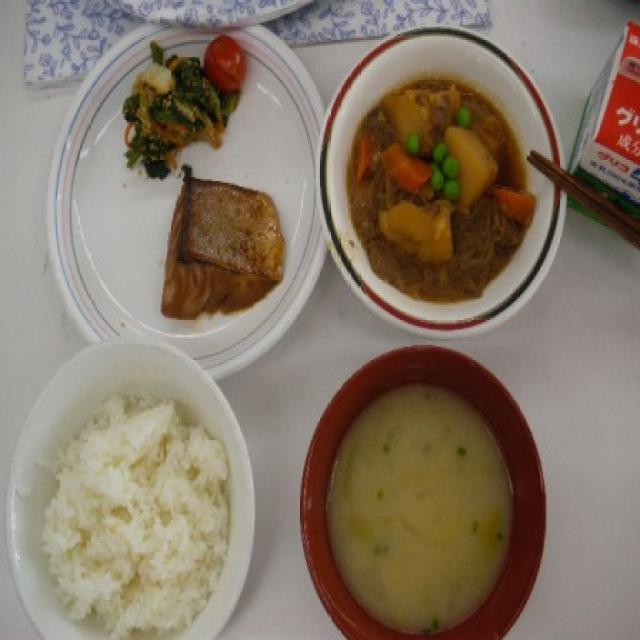汤锅炖物: (296, 345, 551, 638)
熟制海鲜: (152, 162, 288, 320)
牛肉菜式: (311, 27, 573, 326)
米饭主食: (11, 345, 260, 636)
